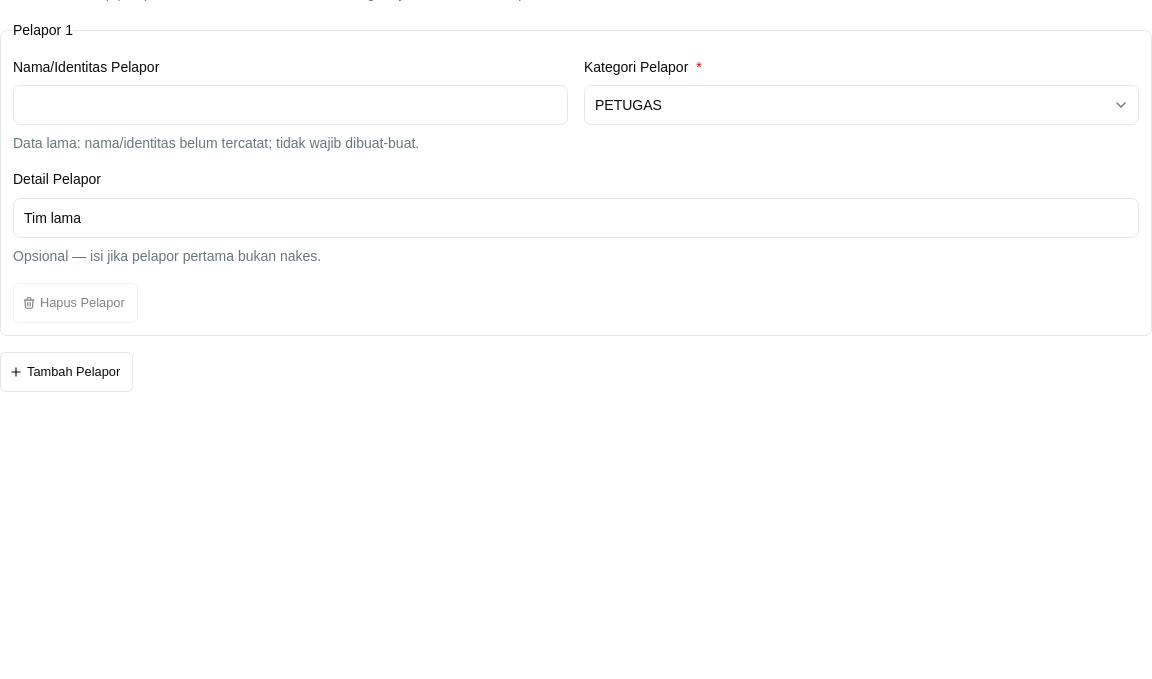
it: InitialReportersFields interactions › clicks add/remove beyond two rows, preserves current values, and reindexes errors
Click the button "Tambah Pelapor" at (67, 372), box [0, 352, 133, 392]
(page scrolled)
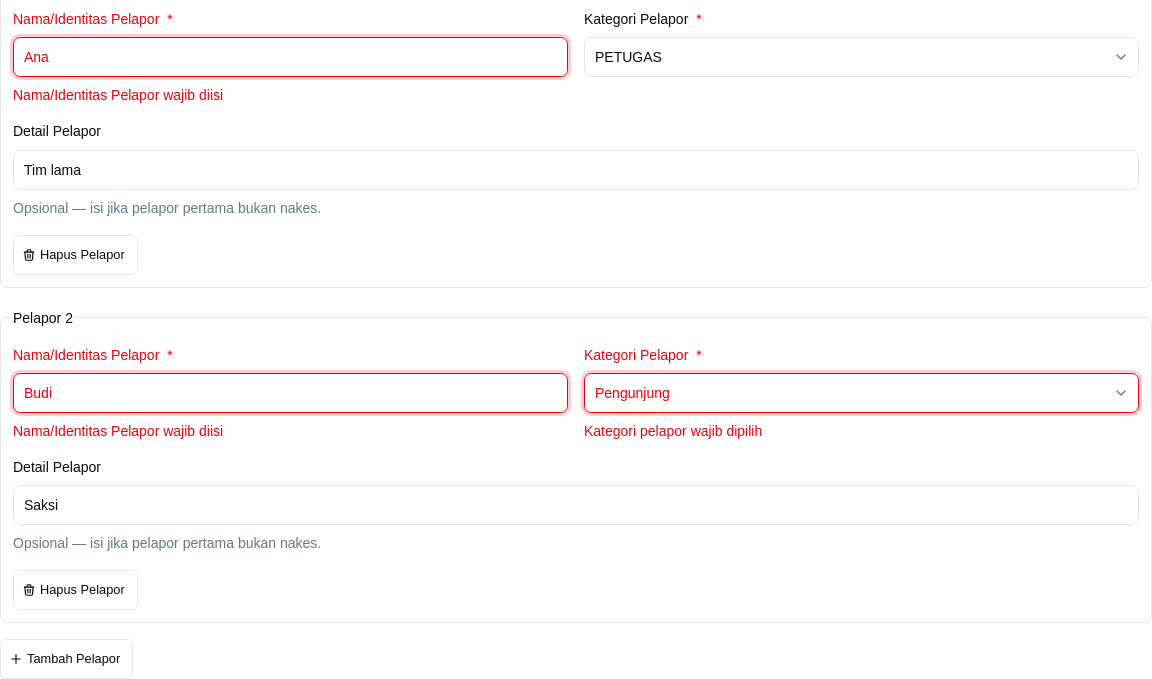
Click the button "Tambah Pelapor" at (67, 659), box [0, 639, 133, 678]
(page scrolled)
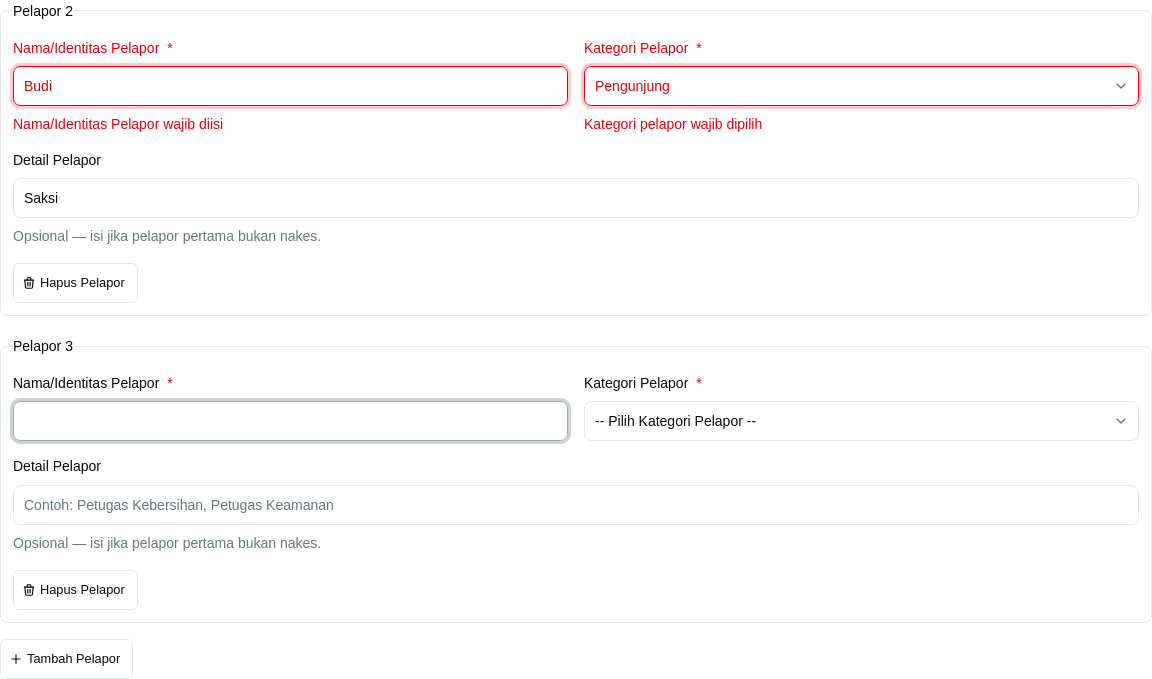
Click the button "Tambah Pelapor" at (67, 658), box [0, 638, 133, 678]
(page scrolled)
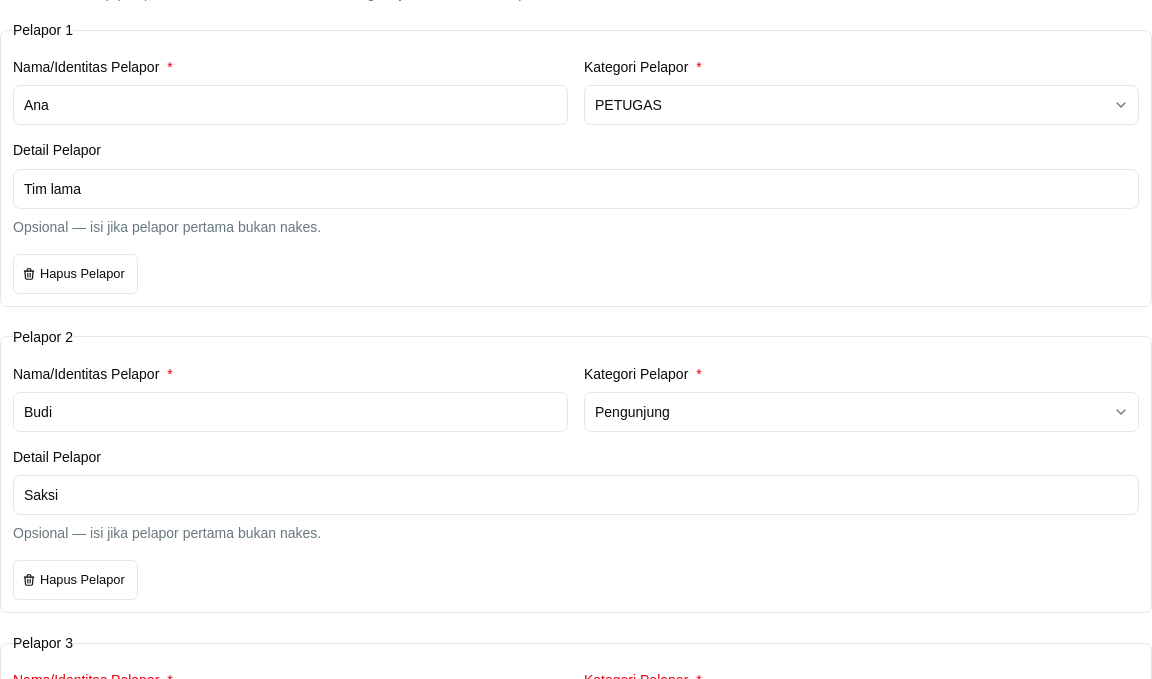
Click the 1st button "Hapus Pelapor" at (75, 274), box [13, 254, 138, 294]
(page scrolled)
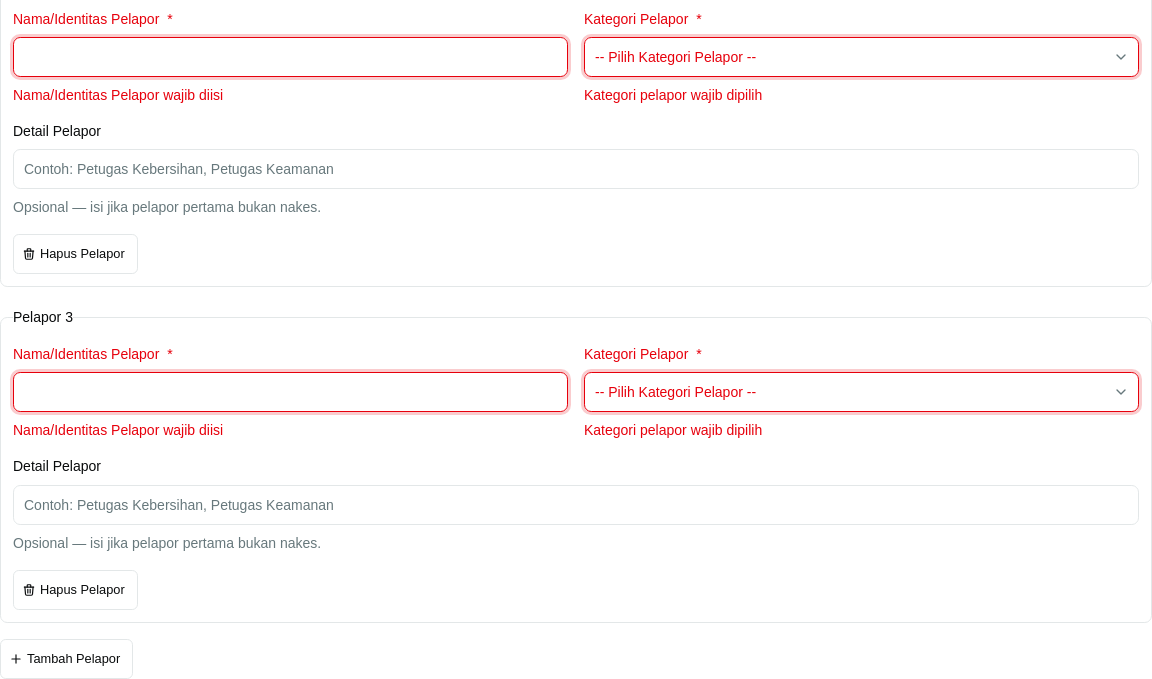
Click the 2nd button "Hapus Pelapor" at (75, 590), box [13, 570, 138, 610]
(page scrolled)
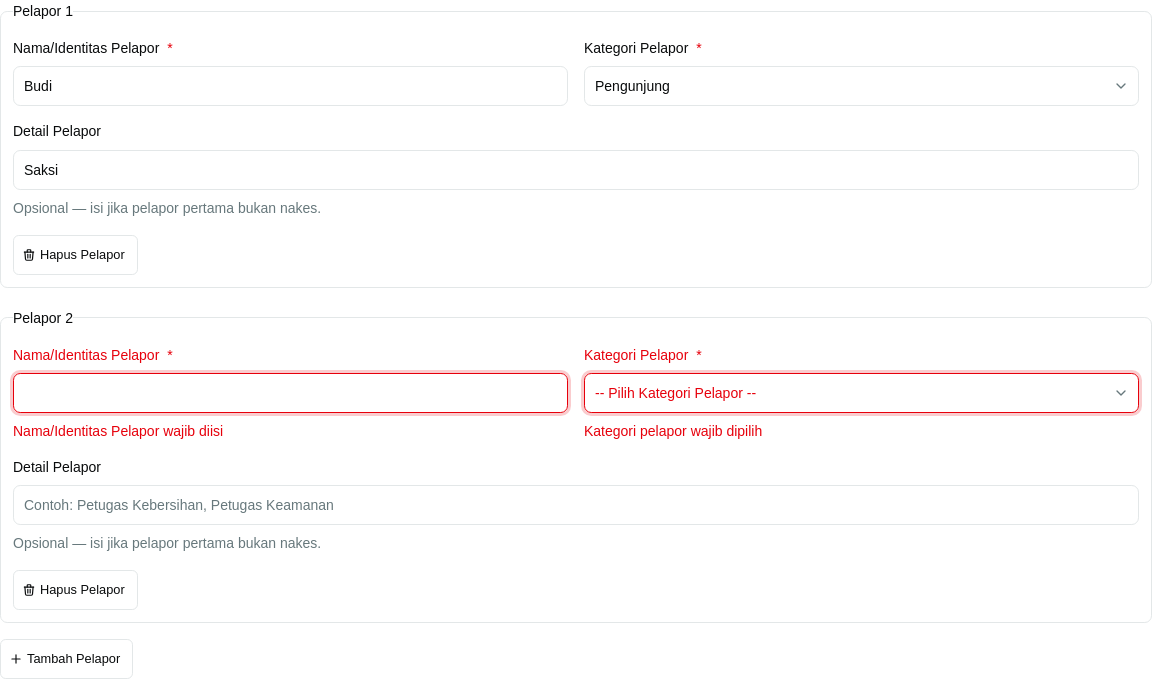
Click the button "Hapus Pelapor" below "Nama/Identitas Pelapor wajib diisi" at (75, 590), box [13, 570, 138, 610]
(page scrolled)
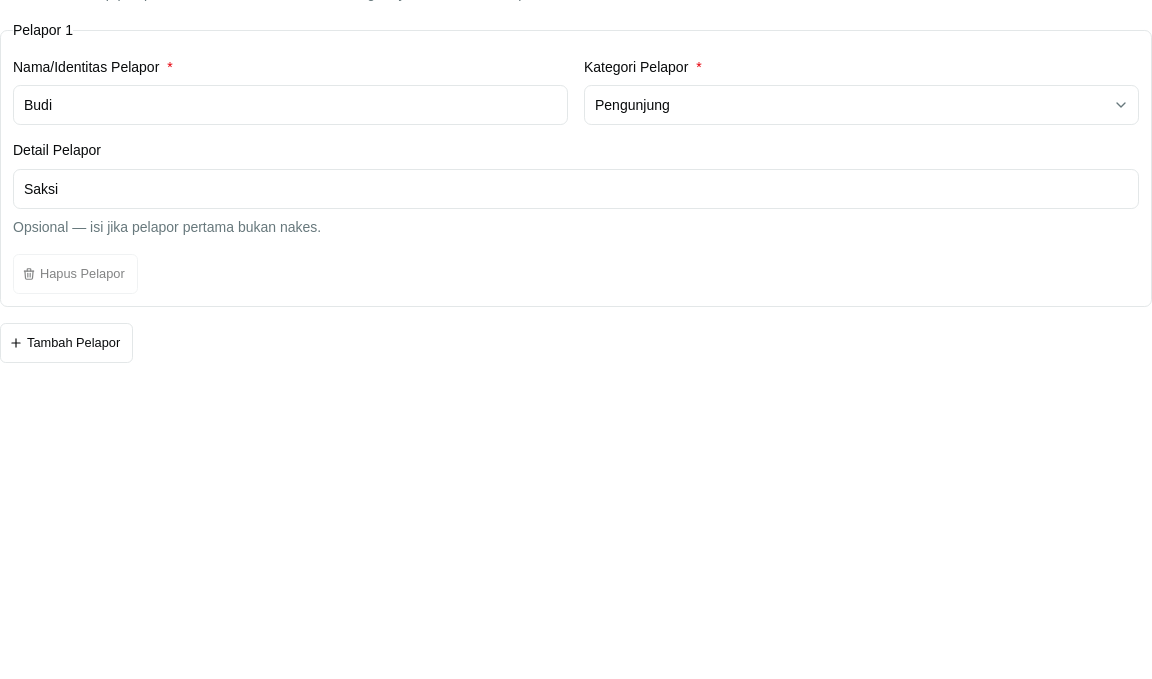
Check: the button "Hapus Pelapor" is disabled, box [13, 254, 138, 294]
